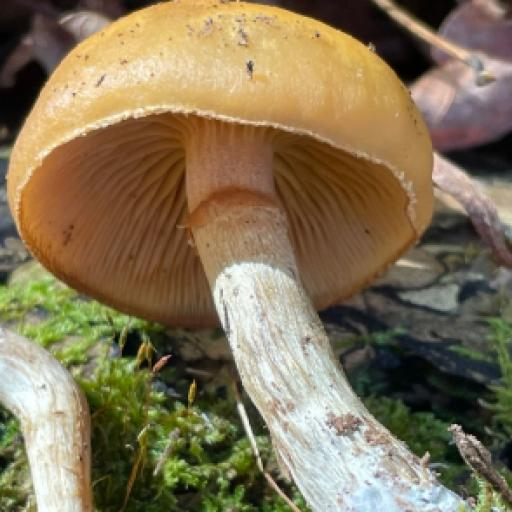mushroom: (9, 4, 442, 352)
